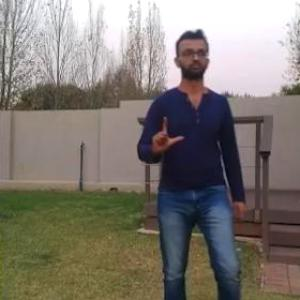land_hand: (150, 108, 194, 159)
